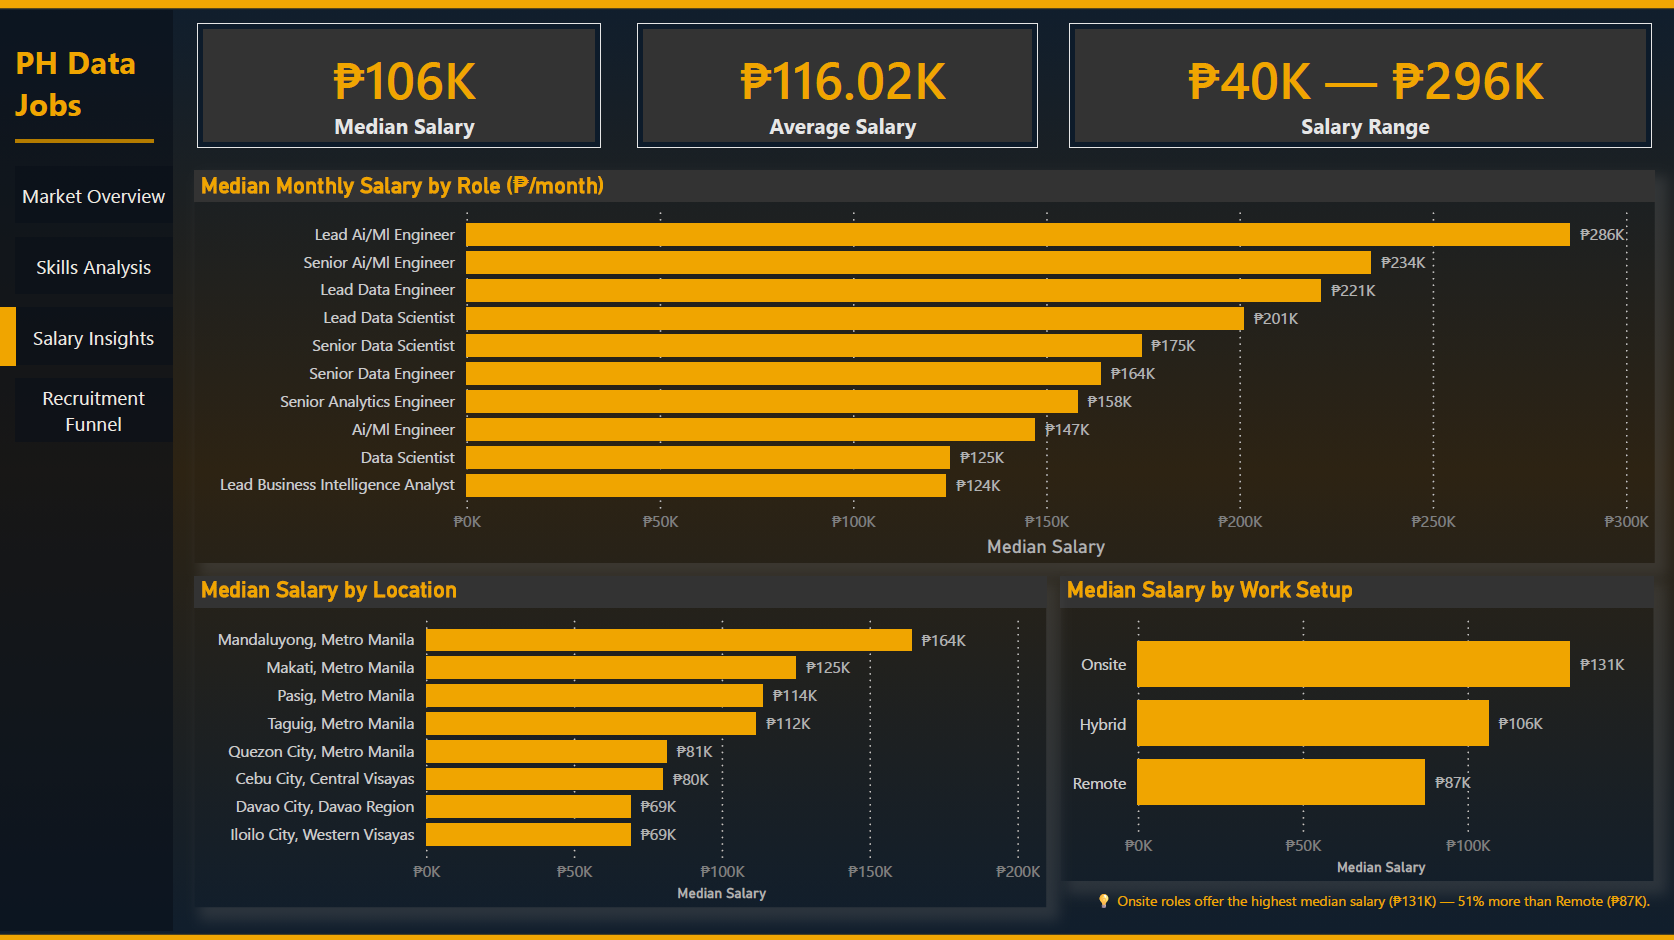

What the dashboard file says about the page in this screenshot:
{"tool":"powerbi","page":{"name":"Salary Insights","canvas":[1280,720],"ordinal":2},"visuals":[{"type":"cardVisual","title":"Job Postings","fields":{"Data":["_Measures.Median Salary"]},"box":[134.3,0,342.9,130],"z":0},{"type":"shape","box":[0,7.8,132,702.7],"z":0,"group":"g2"},{"type":"clusteredBarChart","title":"Median Monthly Salary by Role (₱/month)","fields":{"Category":["dim_jobs.job_title"],"Y":["_Measures.Median Salary"]},"box":[148.6,130,1116,299.8],"z":1000},{"type":"cardVisual","title":"Job Postings","fields":{"Data":["_Measures.Avg Salary"]},"box":[470,0,341.4,130],"z":2000},{"type":"cardVisual","title":"Job Postings","fields":{"Data":["_Measures.Salary Range"]},"box":[800,0,480,130],"z":3000},{"type":"clusteredBarChart","title":"Median Salary by Work Setup","fields":{"Category":["dim_jobs.work_setup"],"Y":["_Measures.Median Salary"]},"box":[811.4,440,452.9,232.9],"z":4000},{"type":"clusteredBarChart","title":"Median Salary by Location","fields":{"Category":["dim_jobs.location"],"Y":["_Measures.Median Salary"]},"box":[148.6,440,651.4,252.9],"z":5000},{"type":"textbox","box":[811.4,672.9,454.3,38.6],"z":6000},{"type":"group","id":"g1","title":"Group 1","box":[0,7.8,132.2,702.7],"z":7000},{"type":"group","id":"g2","title":"Group 2","box":[0,7.8,132.2,702.7],"z":7001,"group":"g1"},{"type":"textbox","box":[6.9,25,108.6,98.6],"z":11000,"group":"g2"},{"type":"shape","box":[12,93.4,106.2,27.5],"z":12000,"group":"g2"},{"type":"actionButton","title":"Market Overview","box":[12.2,126.3,120,43.3],"z":13000,"group":"g2"},{"type":"actionButton","title":"Market Overview","box":[12.2,180.3,120,43.7],"z":14000,"group":"g2"},{"type":"actionButton","title":"Market Overview","box":[12.2,234.3,120,43.7],"z":15000,"group":"g2"},{"type":"actionButton","title":"Market Overview","box":[12.2,288.3,120,48.4],"z":16000,"group":"g2"},{"type":"shape","box":[0,234.4,12,44],"z":17000,"group":"g2"}]}

Visuals, with their boxes in screenshot pixels (x1, y1, x2, y2), scaled from the page's 1280x720 canvas onto the 1674x940 screenshot:
"Job Postings" cardVisual: 176, 0, 624, 170
shape: 0, 10, 173, 928
"Median Monthly Salary by Role (₱/month)" clusteredBarChart: 194, 170, 1654, 561
"Job Postings" cardVisual: 615, 0, 1061, 170
"Job Postings" cardVisual: 1046, 0, 1673, 170
"Median Salary by Work Setup" clusteredBarChart: 1061, 574, 1653, 879
"Median Salary by Location" clusteredBarChart: 194, 574, 1046, 905
textbox: 1061, 879, 1655, 929
"Group 1" group: 0, 10, 173, 928
"Group 2" group: 0, 10, 173, 928
textbox: 9, 33, 151, 161
shape: 16, 122, 155, 158
"Market Overview" actionButton: 16, 165, 173, 221
"Market Overview" actionButton: 16, 235, 173, 292
"Market Overview" actionButton: 16, 306, 173, 363
"Market Overview" actionButton: 16, 376, 173, 440
shape: 0, 306, 16, 363
